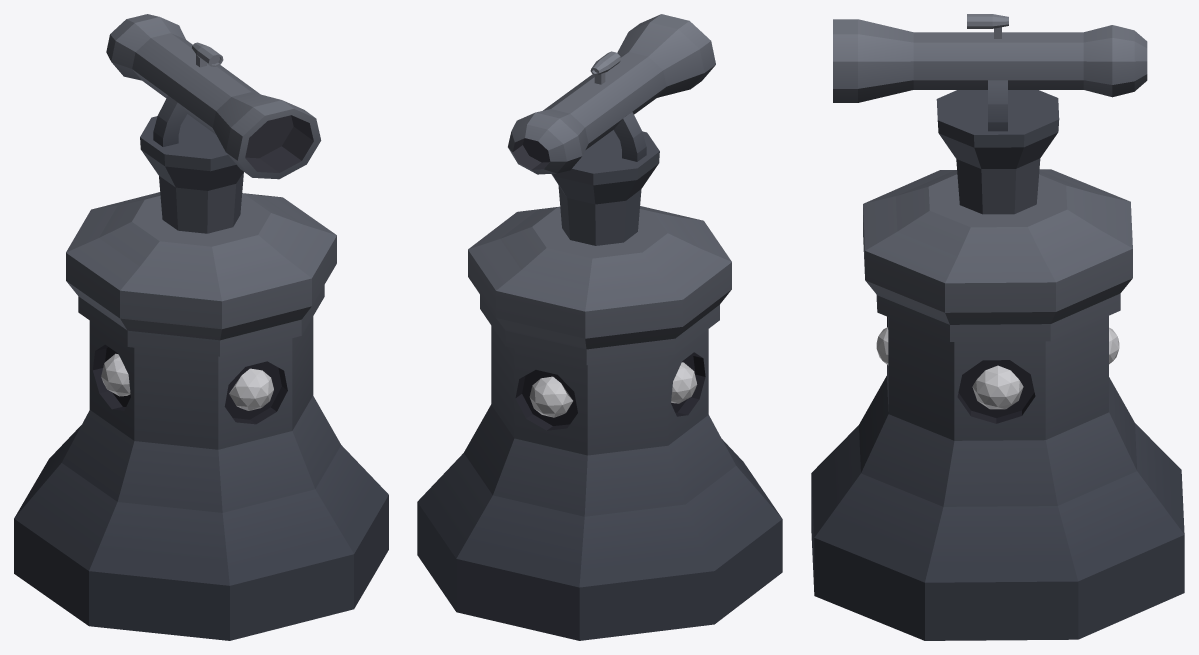
Rendered from turret_sniper1.fbx.
3 renders of one model, left to right at view 1: azimuth 30°, elevation 25°; view 2: azimuth 150°, elevation 25°; view 3: azimuth 270°, elevation 25°, orthographic. The views are drawn at different scales.
Visible parts, largest first — view 1: tour3, canon.001, base_noyau1.001; view 2: tour3, canon.001, base_noyau1.001; view 3: tour3, canon.001, base_noyau1.001.
Part boxes in pixels (x1,y1,x2,y2): tour3: [14, 192, 388, 640]; canon.001: [106, 14, 321, 233]; base_noyau1.001: [101, 353, 273, 410]; tour3: [417, 206, 782, 640]; canon.001: [508, 14, 715, 245]; base_noyau1.001: [529, 362, 697, 417]; tour3: [811, 169, 1184, 640]; canon.001: [833, 14, 1147, 214]; base_noyau1.001: [876, 327, 1119, 409].
Bounding box in the file's own units: 323 × 522 × 323.
